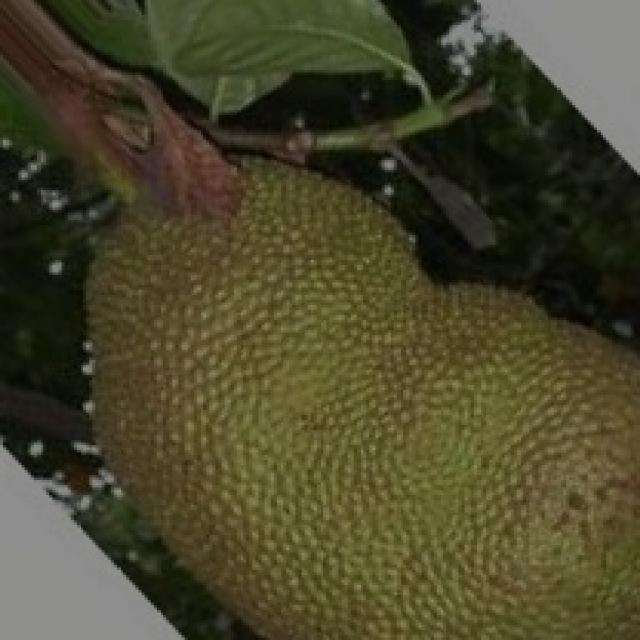Fruit: (258, 165, 640, 637)
